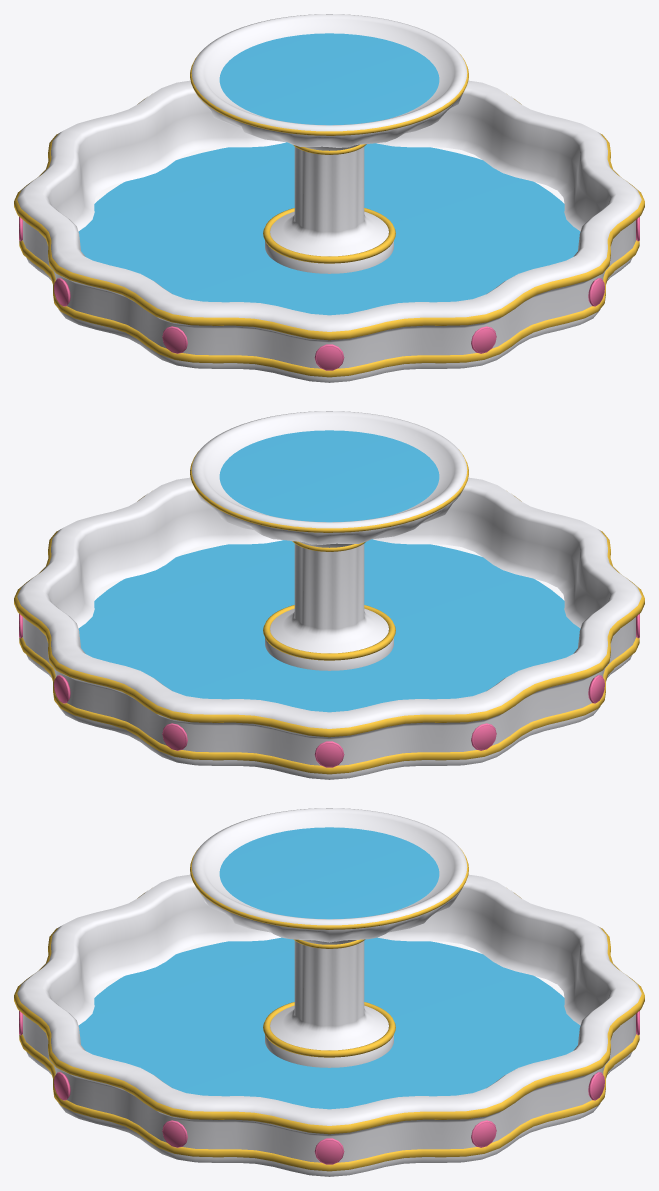
The model's file is LobbyFountain.obj.
3 views of the same model, one above another, from view 1: azimuth 30°, elevation 25°; view 2: azimuth 150°, elevation 25°; view 3: azimuth 270°, elevation 25° (orthographic).
Visible parts, largest first — view 1: Stone, Pool, Trim, Accent; view 2: Stone, Pool, Trim, Accent; view 3: Stone, Pool, Trim, Accent.
Part boxes in pixels (box(x1,y1,x2,y2)): Stone: box(17, 14, 641, 382); Pool: box(78, 33, 580, 315); Trim: box(14, 53, 644, 377); Accent: box(19, 217, 639, 370); Stone: box(17, 411, 641, 779); Pool: box(78, 430, 580, 712); Trim: box(14, 450, 644, 774); Accent: box(19, 614, 639, 767); Stone: box(17, 808, 641, 1176); Pool: box(78, 827, 580, 1109); Trim: box(14, 848, 644, 1171); Accent: box(19, 1011, 639, 1164).
Size of the model in its own units: 26.4 by 8.5 by 26.4.
